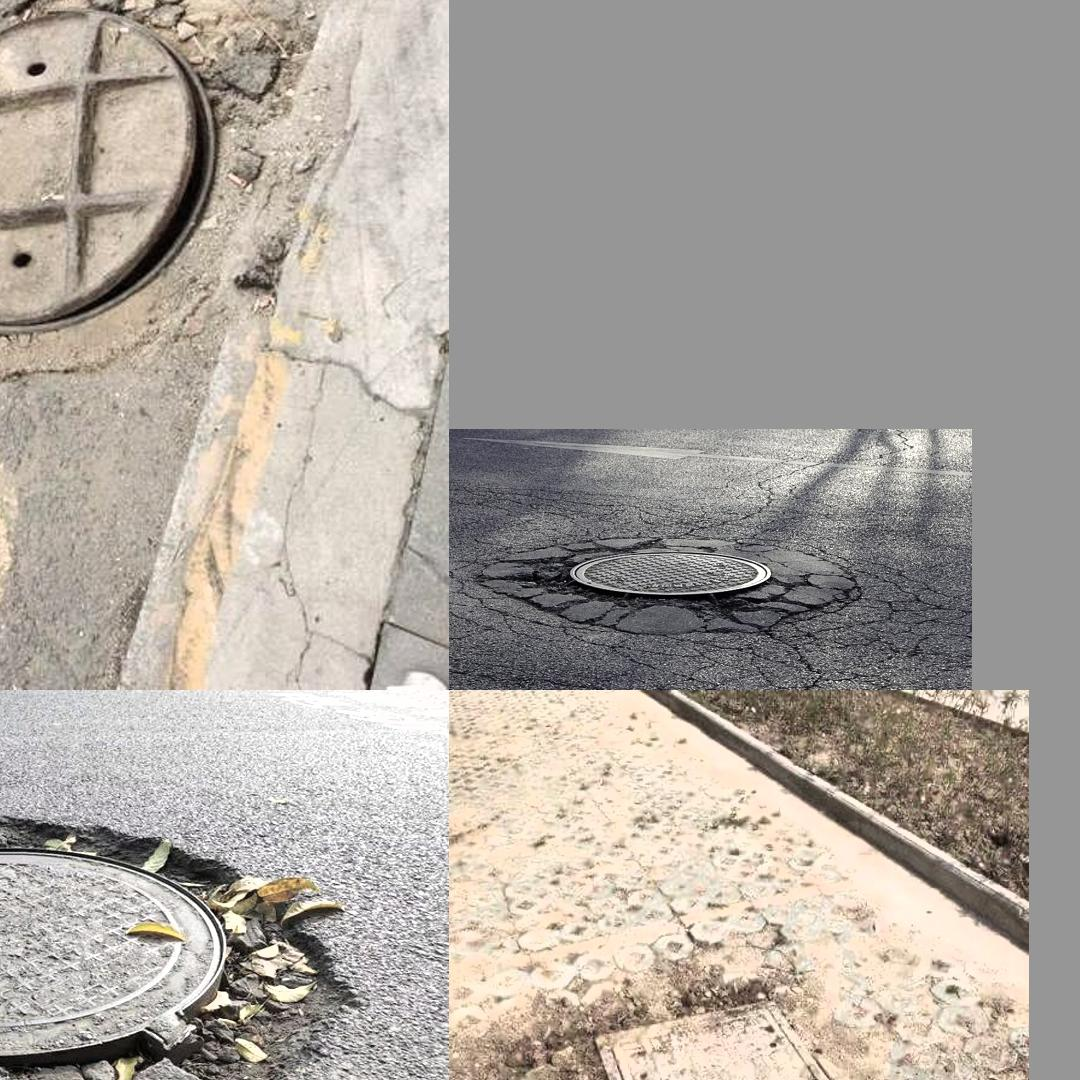circle: (0, 0, 357, 433), (0, 815, 340, 1080), (514, 533, 871, 647), (568, 993, 922, 1080)
